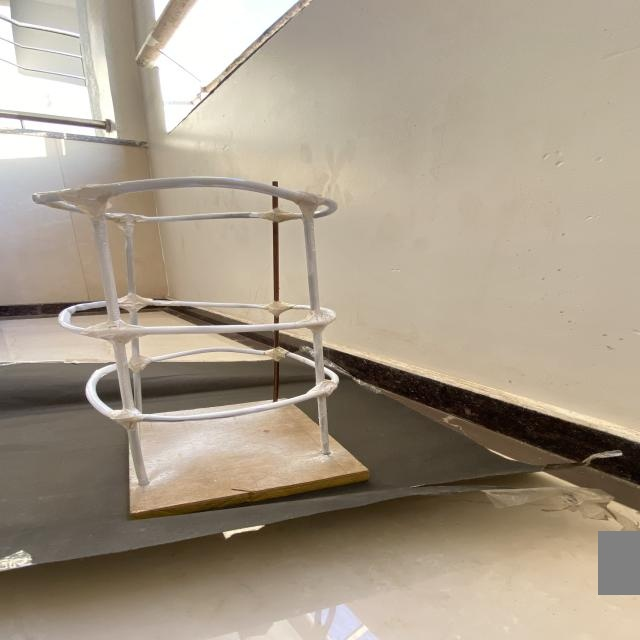silo: (45, 172, 358, 495)
